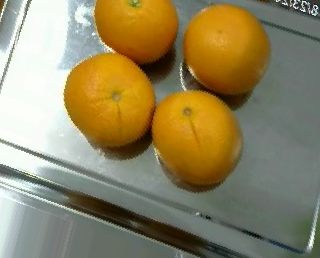Orange: (62, 51, 155, 147), (152, 89, 243, 185), (184, 3, 270, 92), (94, 1, 179, 61)
